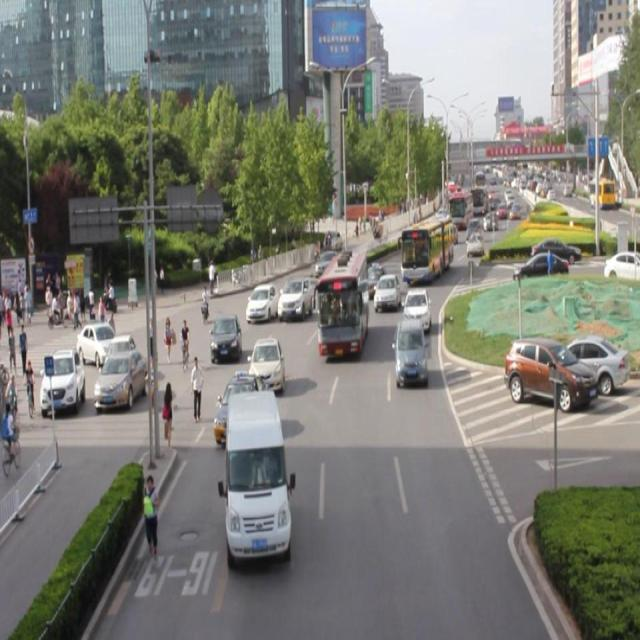car: (215, 373, 269, 441), (394, 317, 427, 388), (250, 336, 282, 388), (210, 311, 242, 359), (277, 277, 313, 316), (245, 282, 278, 322), (402, 288, 428, 332), (373, 273, 399, 312), (364, 262, 386, 300)
truck: (225, 390, 290, 562)
van: (316, 252, 368, 352), (401, 217, 453, 284)
